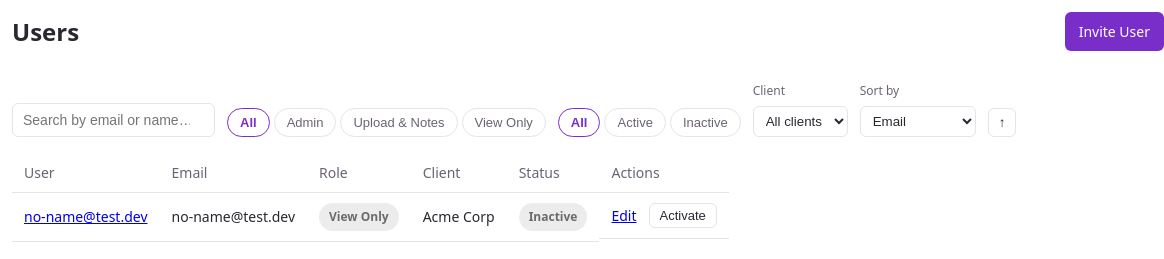
Test: UsersListPage activate/deactivate › disables the row action while a request is in flight, preventing duplicate clicks
The image size is (1164, 259).
Expected: the link "no-name@test.dev" is shown, [24, 207, 148, 226]
Click the button "Activate" at (683, 216), box [648, 203, 717, 228]
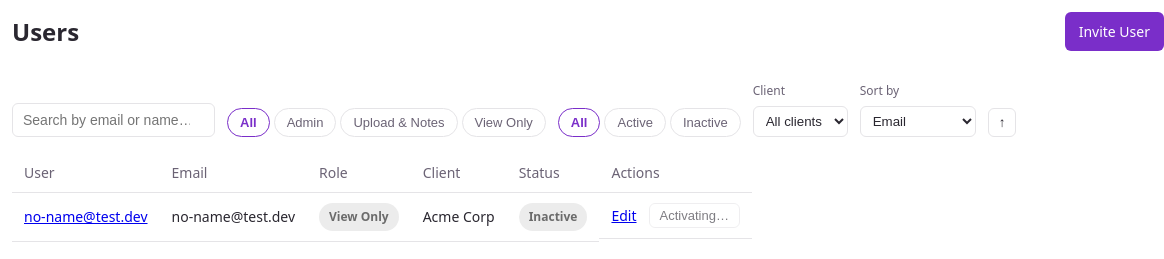
Expected: the button "Activating…" is disabled, [648, 203, 740, 228]
